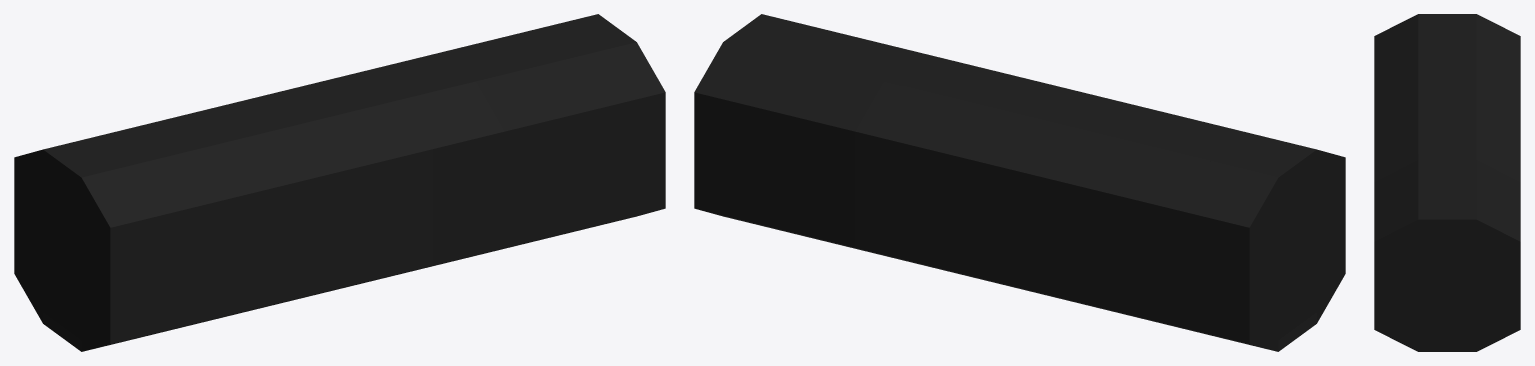
File: mg_suppressor.obj
The picture shows the model from 3 angles, left to right: view 1: azimuth 30°, elevation 25°; view 2: azimuth 150°, elevation 25°; view 3: azimuth 270°, elevation 25°; orthographic projection. The views are drawn at different scales.
Parts seen in each view (by area): view 1: suppressor_1, suppressor, suppressor_2; view 2: suppressor_2, suppressor, suppressor_1; view 3: suppressor, suppressor_1, suppressor_2.
Boxes of the visible parts, box(x1,y1,x2,y2) form: suppressor_1: box(81, 42, 665, 351); suppressor: box(43, 14, 636, 351); suppressor_2: box(14, 149, 42, 322); suppressor_2: box(694, 42, 1278, 351); suppressor: box(723, 14, 1316, 351); suppressor_1: box(1317, 149, 1345, 322); suppressor: box(1418, 14, 1476, 351); suppressor_1: box(1374, 14, 1418, 351); suppressor_2: box(1476, 14, 1520, 351).
Size of the model in its own units: 5 by 1.5 by 1.5.
